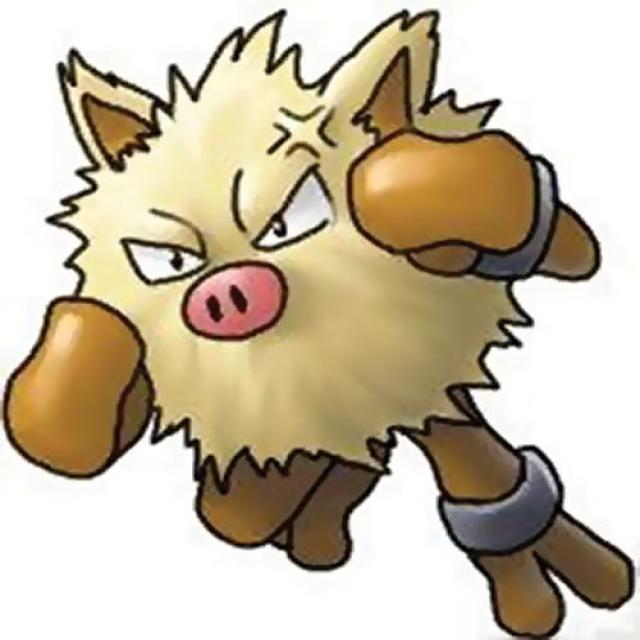Primeape: (49, 34, 546, 500)
